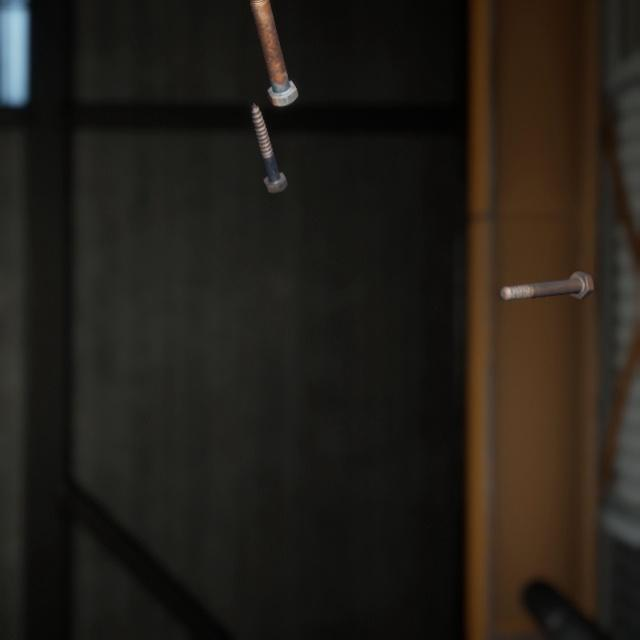bolt: (247, 0, 302, 101), (246, 85, 292, 184), (494, 250, 598, 287)
